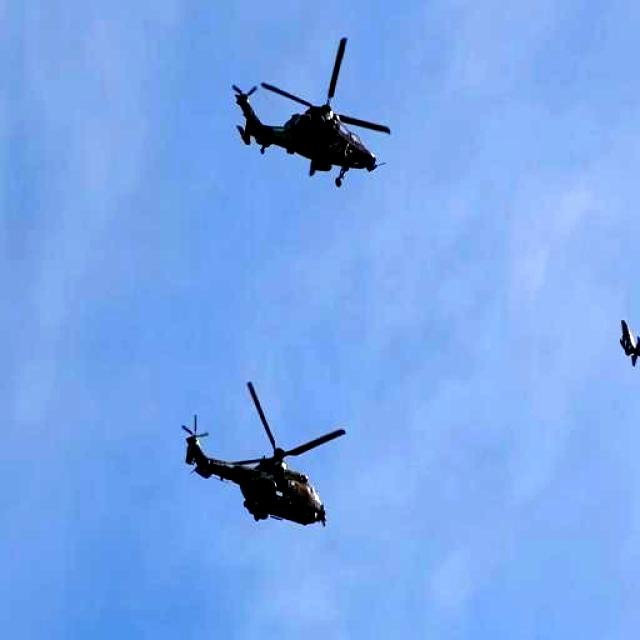drone: (228, 25, 394, 214), (182, 386, 359, 556), (609, 302, 640, 419)
